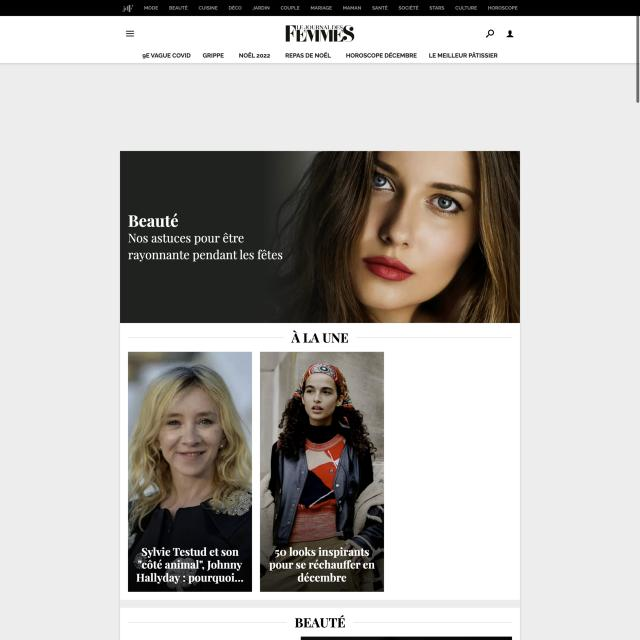logo: (282, 22, 358, 46)
navigation: (119, 2, 522, 15), (138, 49, 500, 62)
